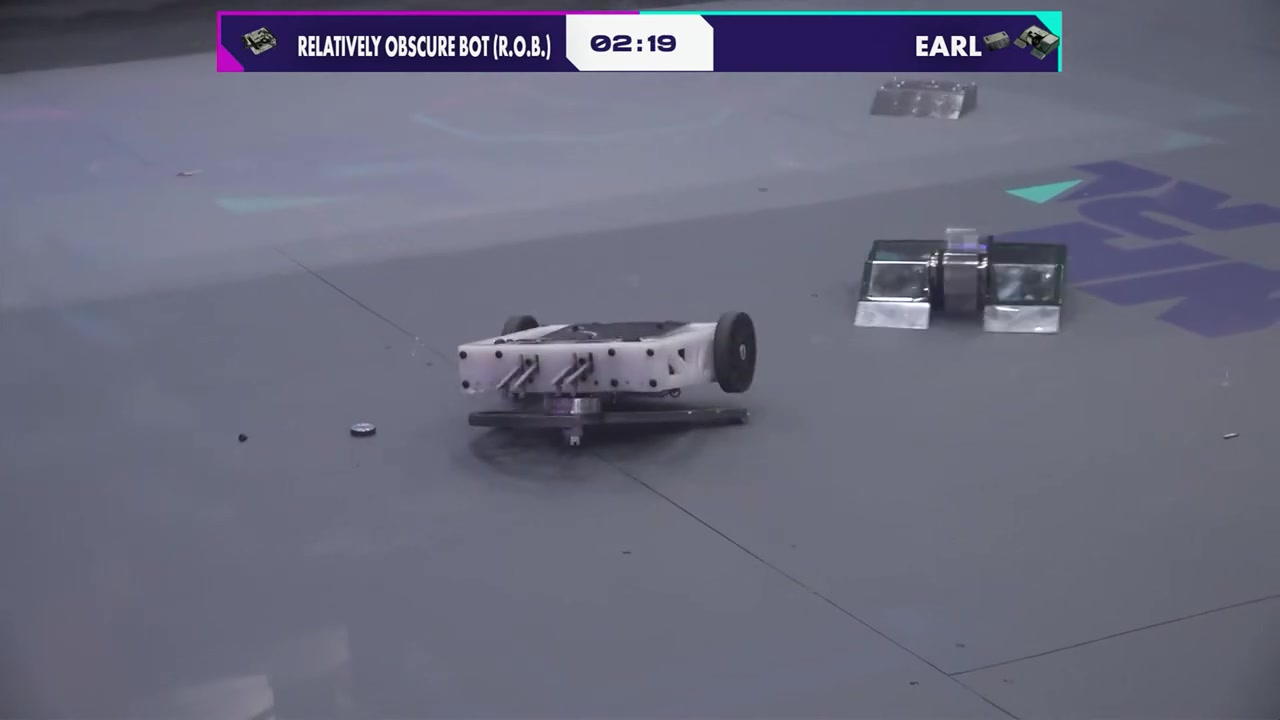combatbot: (458, 309, 762, 453), (855, 224, 1070, 335)
debris: (348, 412, 377, 440)
minibot: (868, 78, 980, 125)
